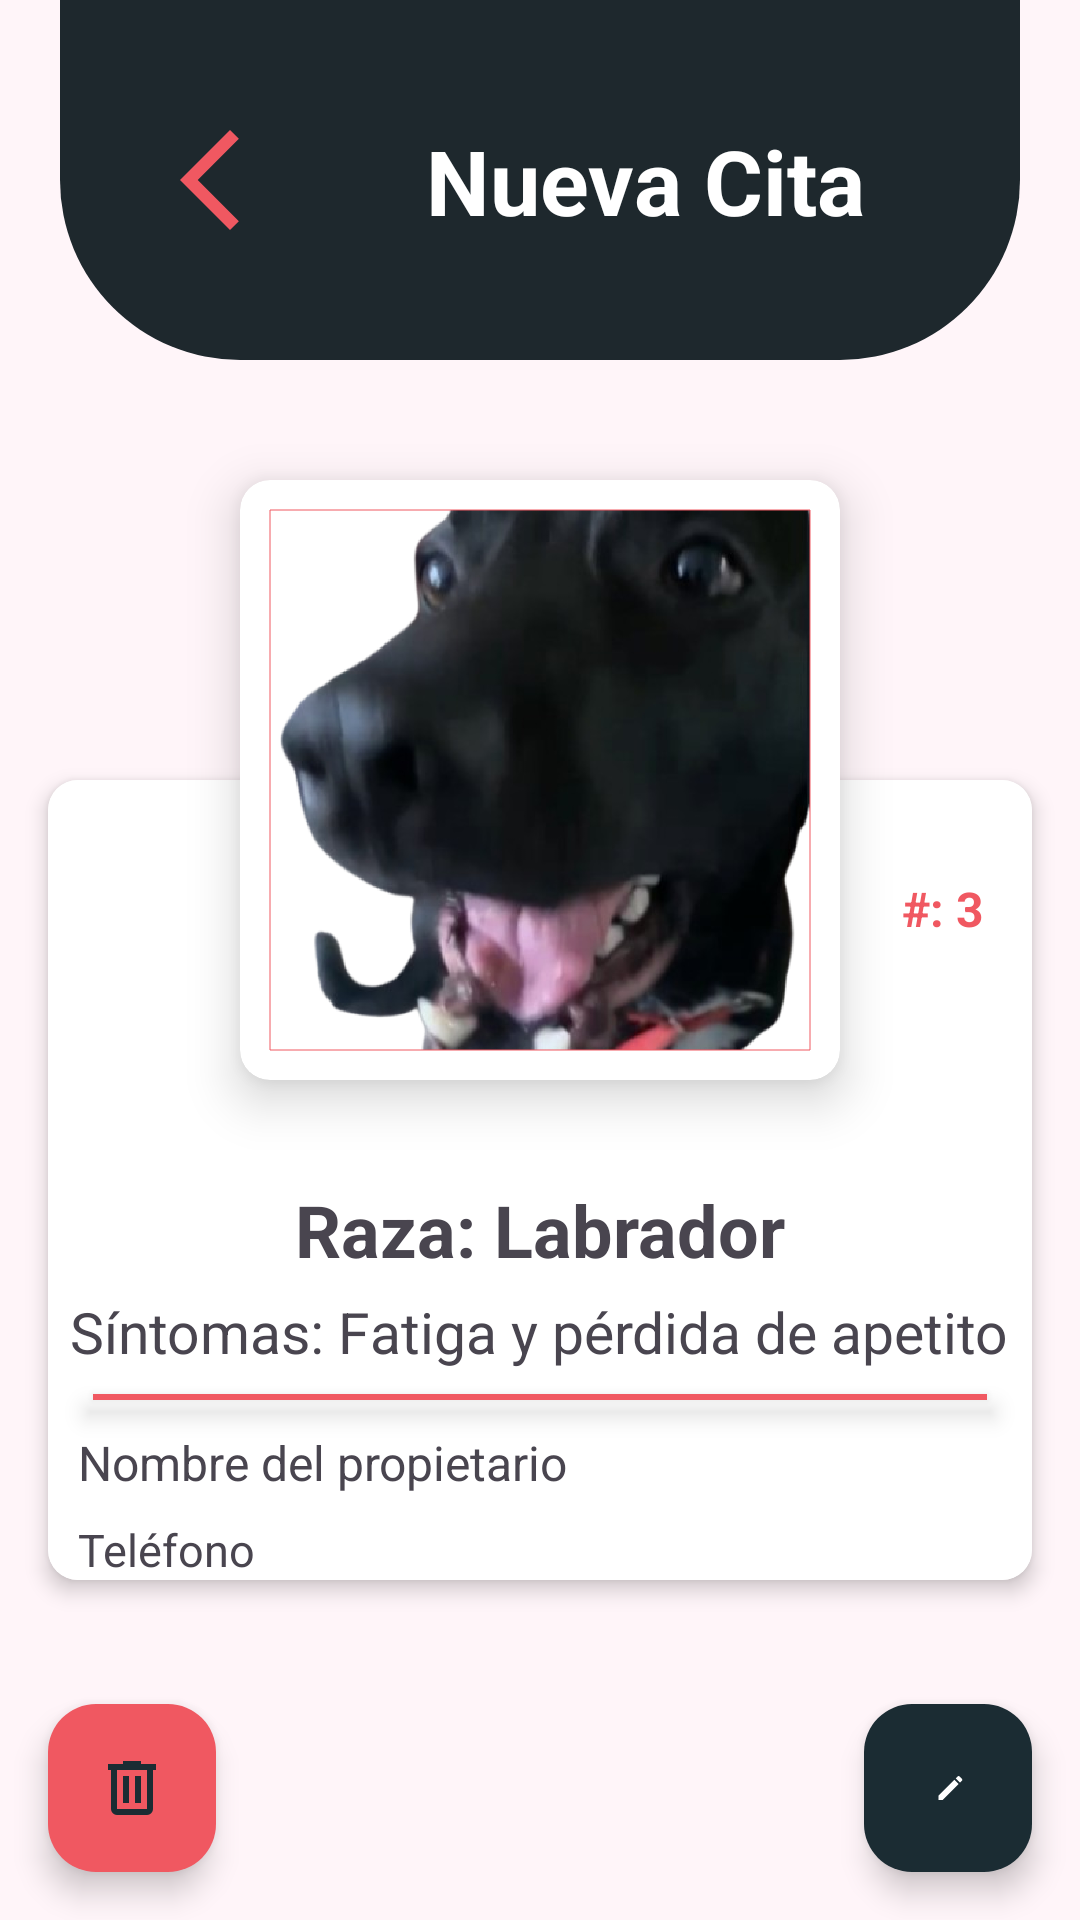

Icons on this 1080px x 1920px Android screen, each with its box as (x1, y1, x2, y2):
Editar cita: (864, 1704, 1032, 1872)
Eliminar cita: (48, 1704, 216, 1872)
Volver: (180, 130, 239, 230)
